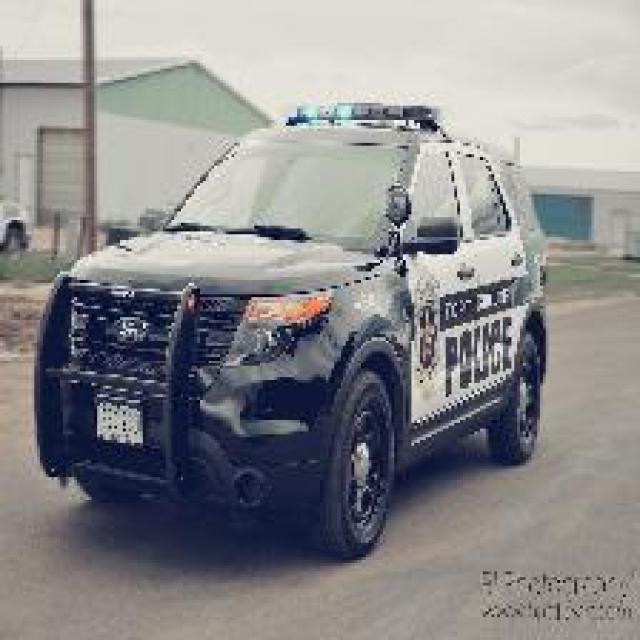Police-car: (29, 97, 548, 557)
